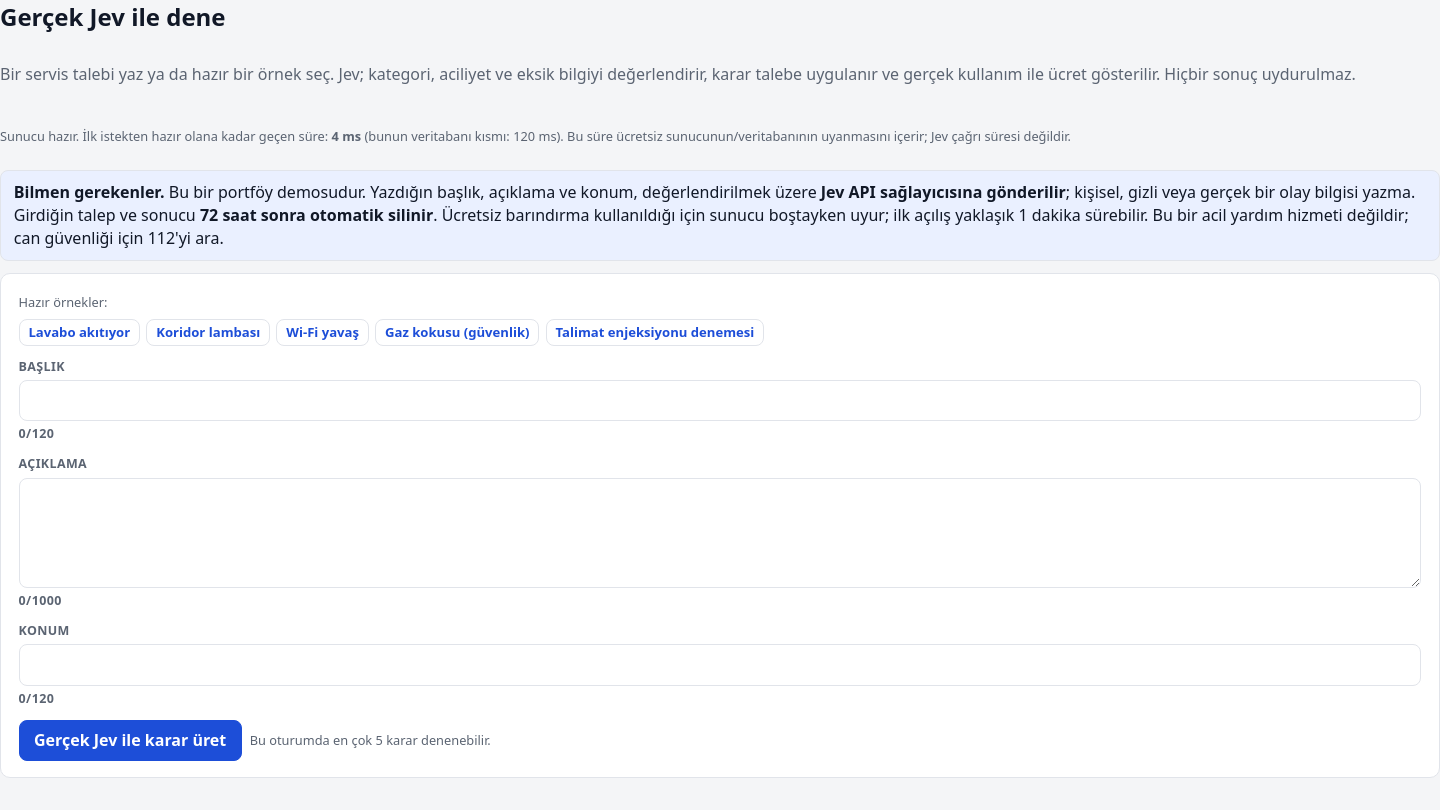
Test: DemoPage: sonuç › inceleme gereken kararda nedenler listelenir
The image size is (1440, 810).
Expected: the element with test id "wake-summary" is shown, [0,127,1071,145]
Click the button "Lavabo akıtıyor" at (79, 332), box [19,319,140,346]
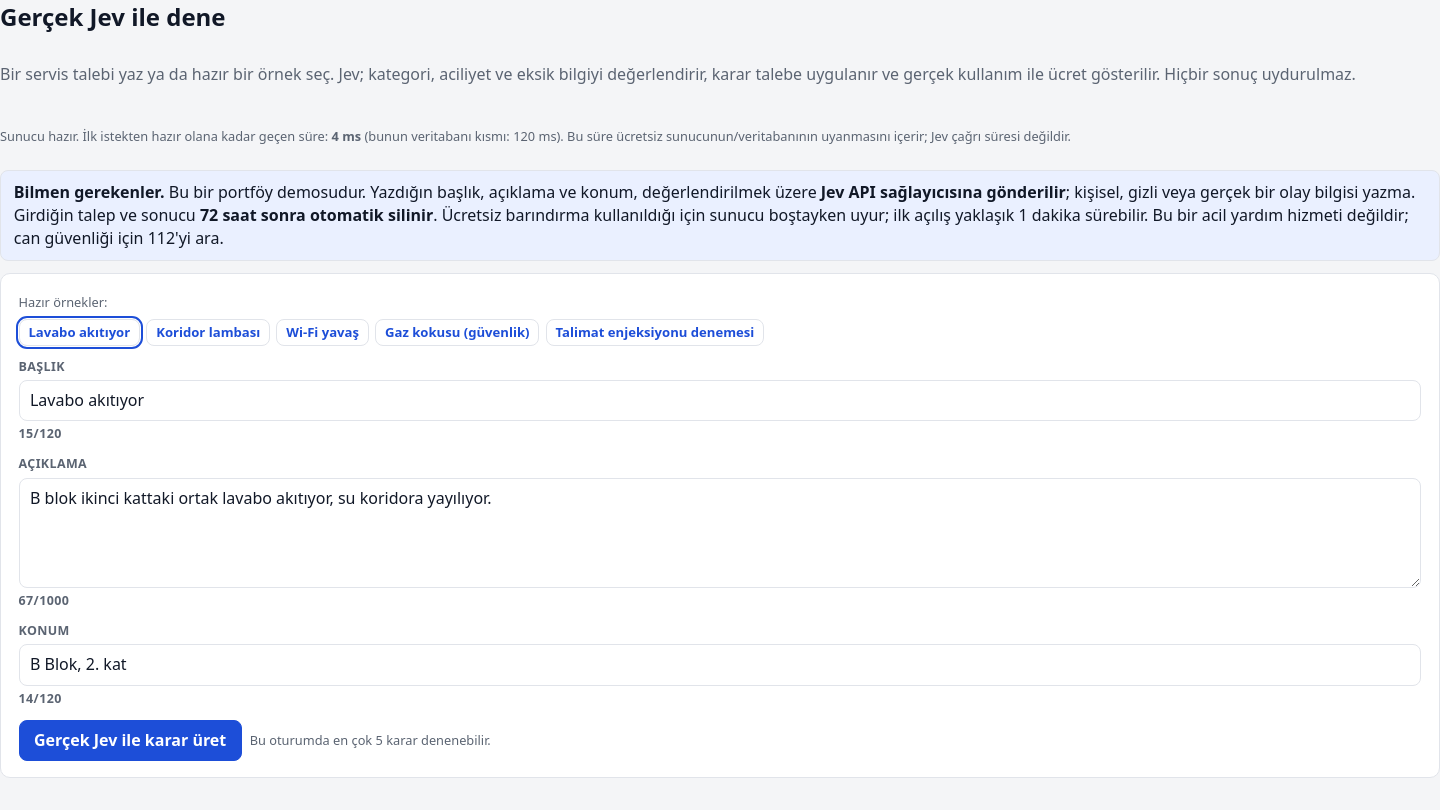
Click the button "Gerçek Jev ile karar üret" at (130, 740), box [19,720,242,761]
(page scrolled)
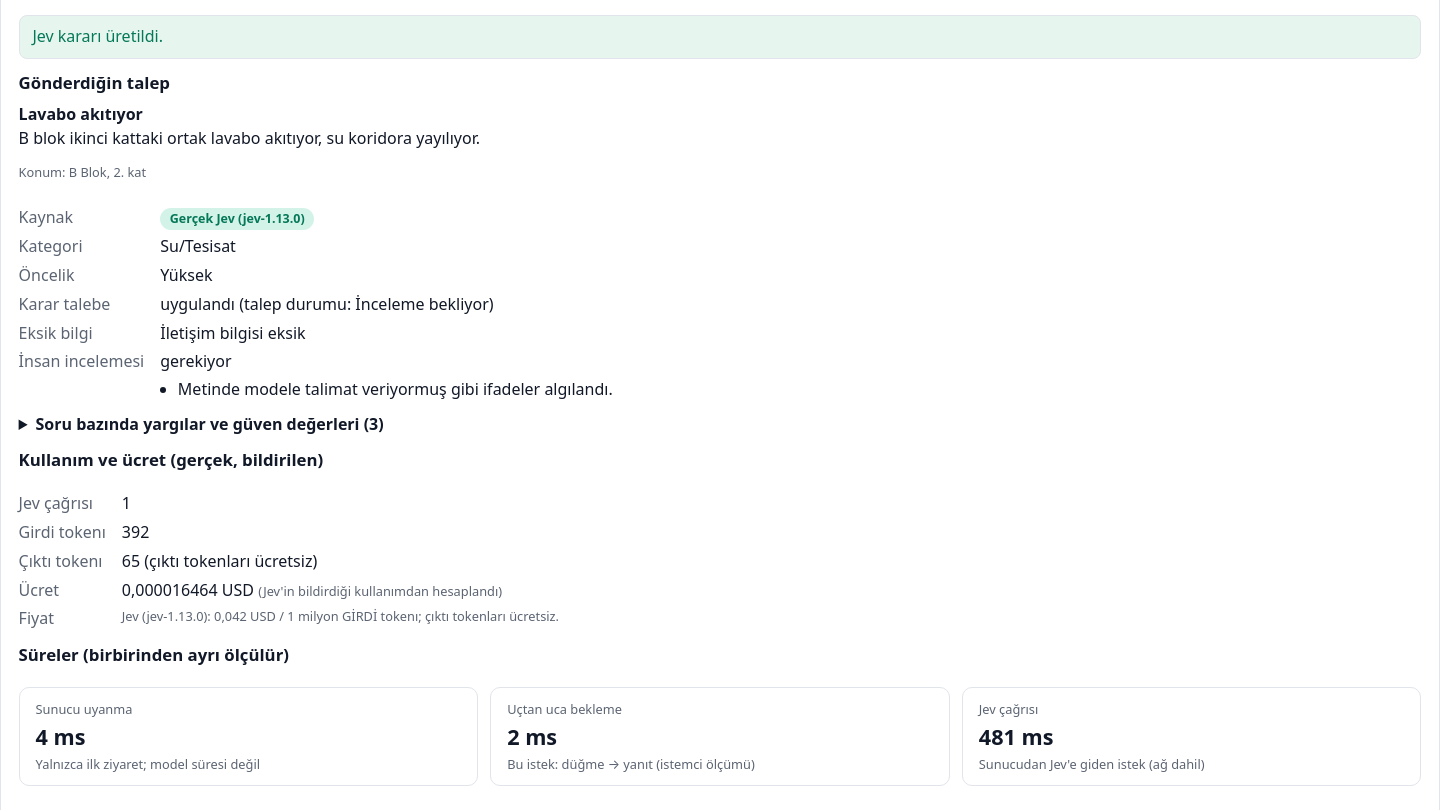
Expected: the element "Sonuç" shows "gerekiyor", [160,350,232,372]
Expected: the element "Sonuç" shows "modele talimat veriyormuş gibi", [178,378,613,400]
Expected: the element "Sonuç" shows "talep durumu: İnceleme bekliyor", [160,293,494,315]
